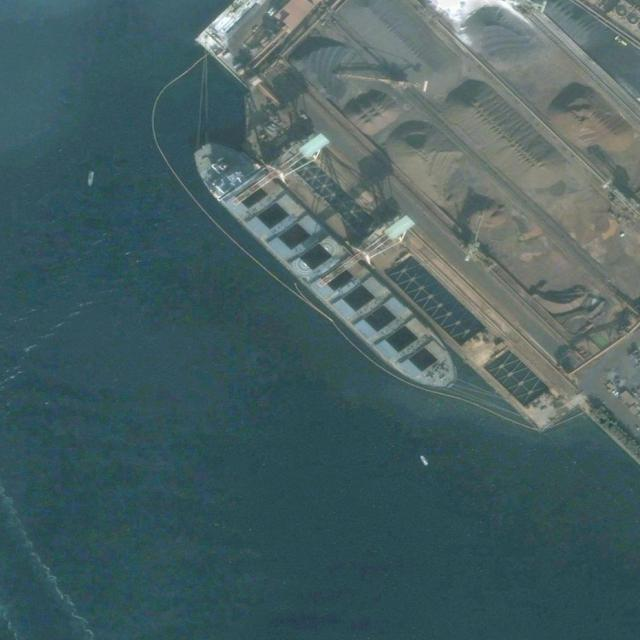Cargo: (178, 124, 471, 410)
